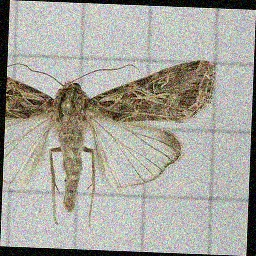Spodoptera litura: (5, 56, 214, 228)
